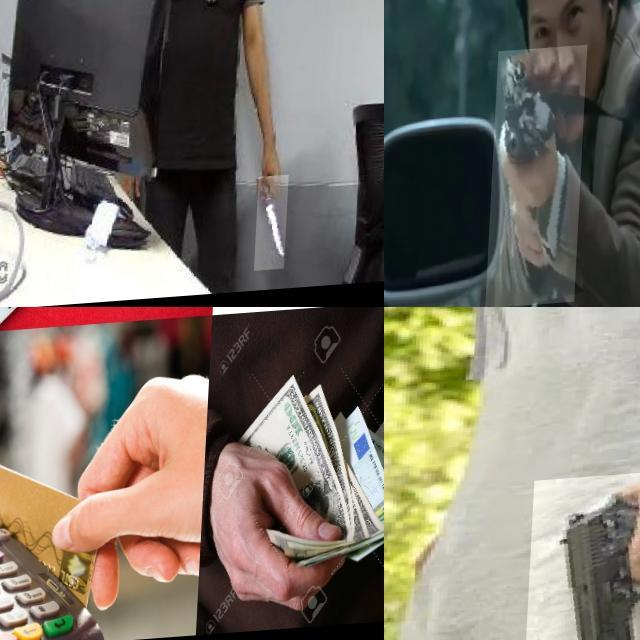-: (261, 180, 295, 276)
gun-knife-thesis - v11 Yolov5 augmented: (490, 50, 590, 307), (528, 470, 640, 640)
